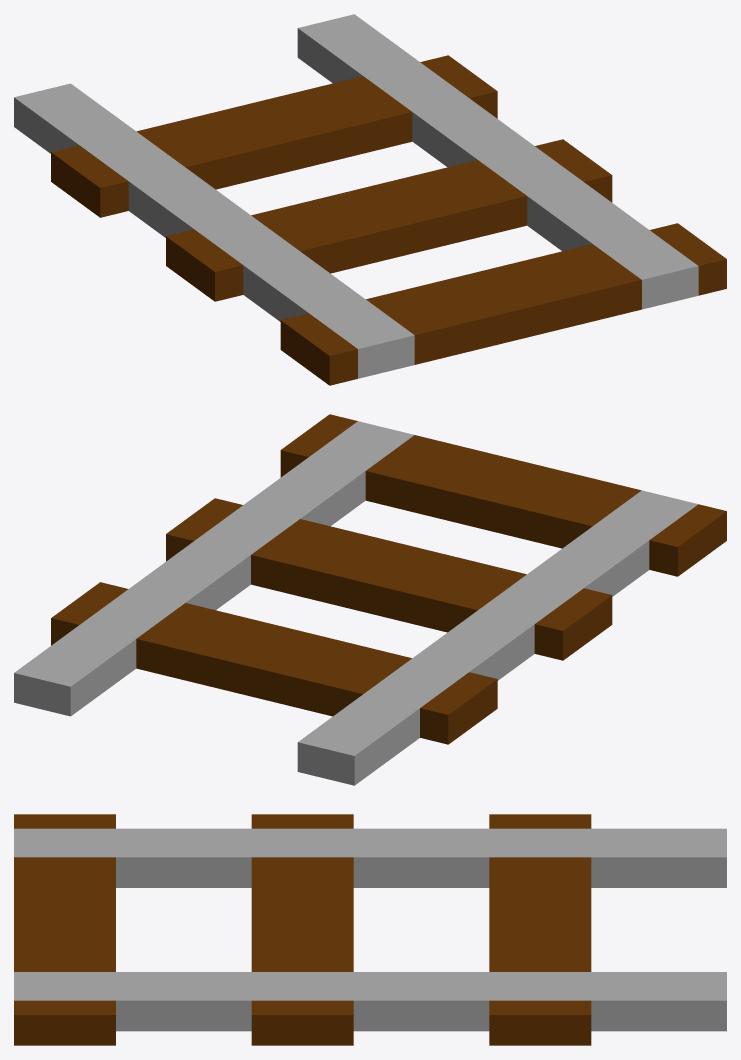
File: Track.fbx
3 renders of one model, top to bottom at view 1: azimuth 30°, elevation 25°; view 2: azimuth 150°, elevation 25°; view 3: azimuth 270°, elevation 25°, orthographic. The views are drawn at different scales.
Visible parts, largest first — view 1: root; view 2: root; view 3: root.
Part boxes in pixels (<box>): root: <box>14,14,726,385</box>; root: <box>14,414,726,785</box>; root: <box>14,814,726,1045</box>.
Size of the model in its own units: 0.512 by 0.0366 by 0.768.
1 material, 1 textured.
